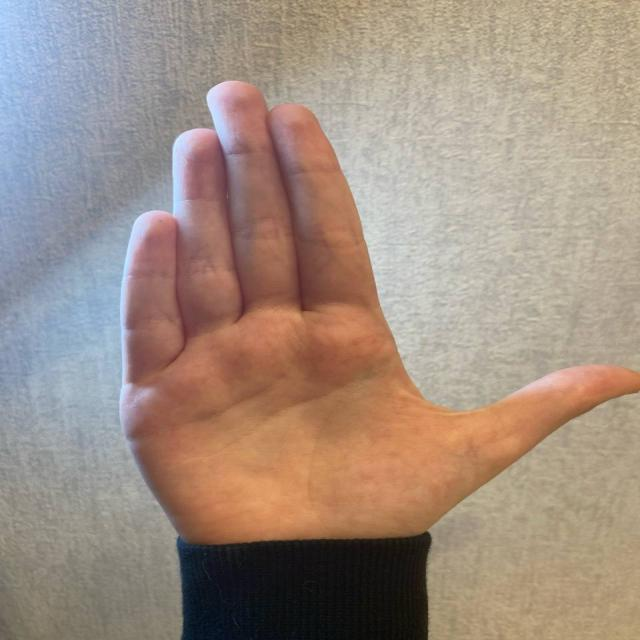v: (80, 81, 640, 522)
